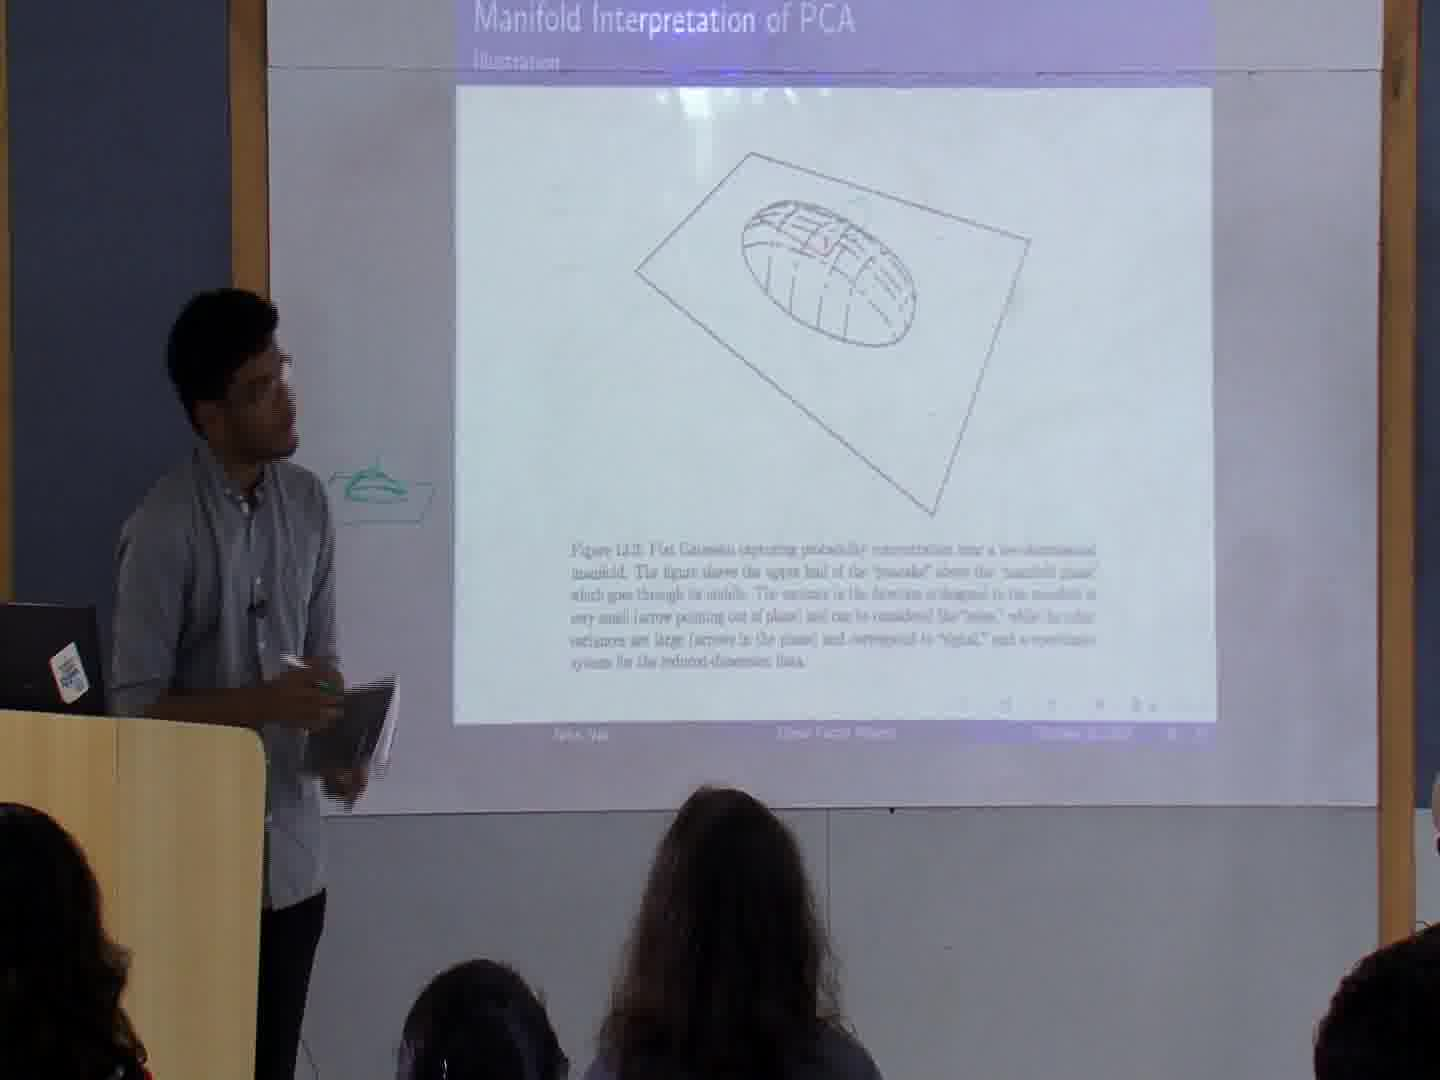slide: (452, 1, 1218, 743)
